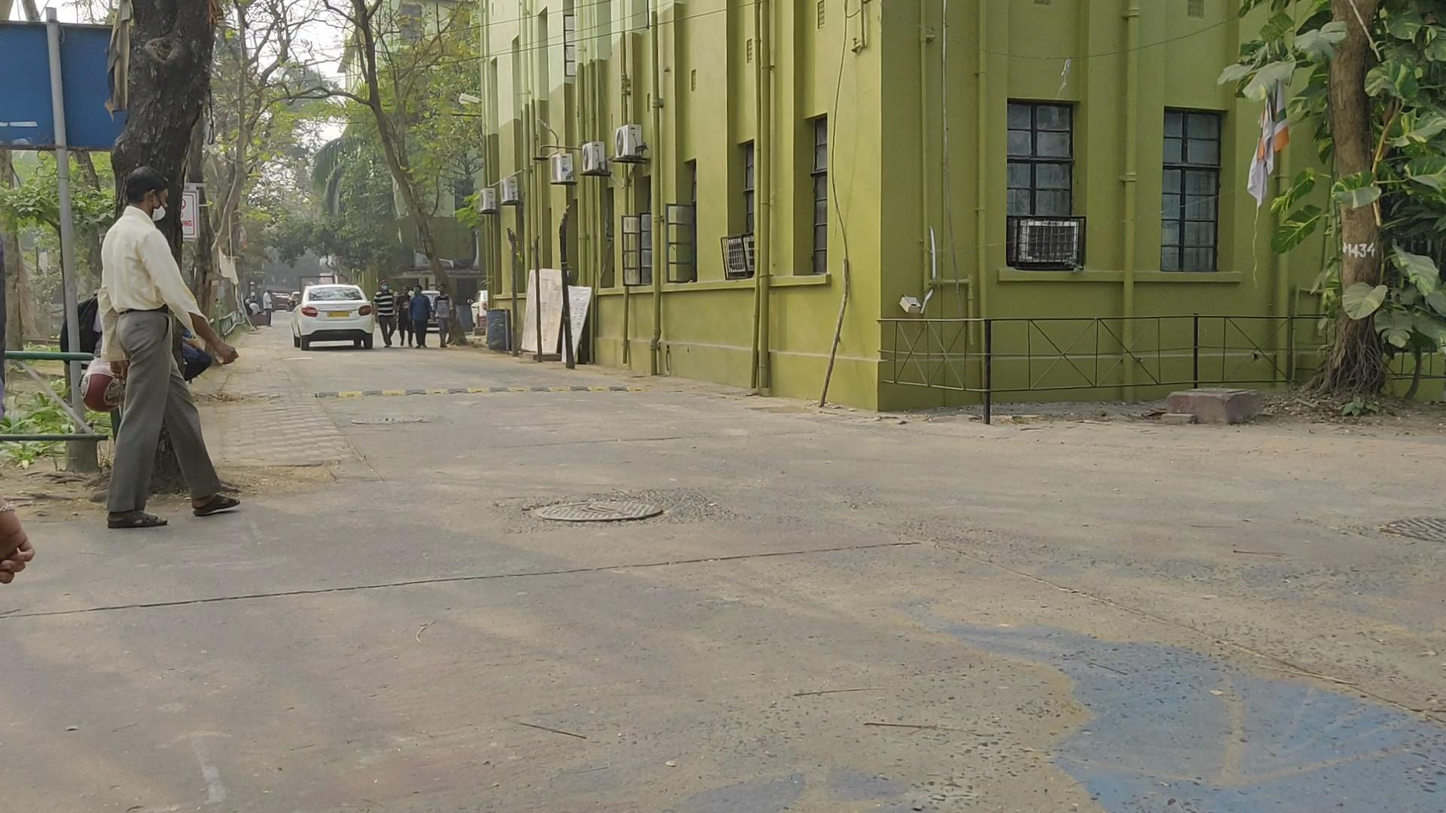car: (292, 283, 375, 354)
